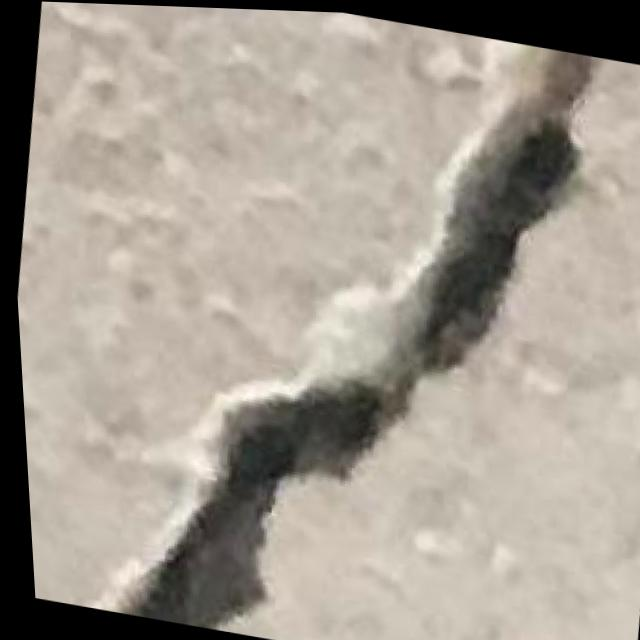Crack: (87, 3, 640, 640)
